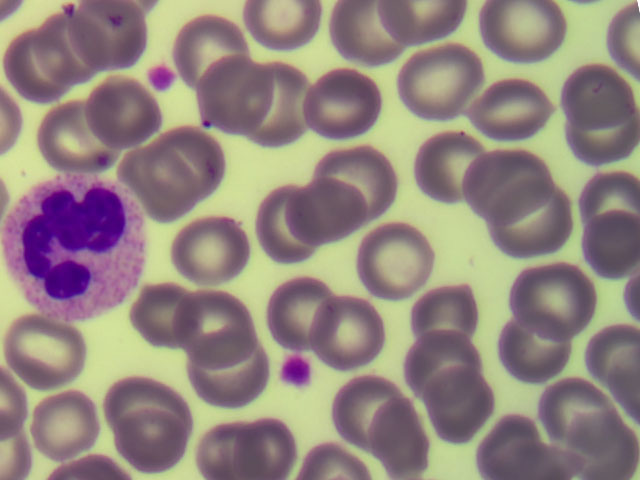Platelets: (280, 356, 310, 387), (148, 64, 177, 91)
RBC: (468, 150, 552, 223), (494, 183, 573, 259), (474, 1, 570, 63), (5, 314, 82, 391), (400, 50, 487, 118), (186, 337, 267, 409), (257, 186, 329, 267), (464, 76, 555, 140), (240, 67, 313, 146), (400, 332, 480, 402), (193, 59, 269, 132), (69, 2, 150, 68), (514, 268, 588, 340), (414, 131, 486, 205), (7, 31, 82, 102), (321, 145, 395, 216), (359, 226, 433, 297), (173, 21, 250, 89), (171, 216, 249, 283), (314, 297, 386, 369), (126, 151, 203, 218), (105, 374, 183, 439), (262, 283, 340, 348), (330, 375, 402, 445), (303, 74, 382, 137), (180, 293, 251, 363), (499, 314, 571, 383), (328, 4, 405, 68), (567, 410, 637, 480), (569, 97, 640, 166), (287, 180, 362, 245), (408, 287, 488, 347), (429, 363, 491, 440), (546, 378, 614, 447), (367, 400, 431, 473), (28, 394, 105, 453), (41, 105, 112, 167), (560, 69, 636, 126), (160, 129, 224, 195), (35, 23, 105, 83), (119, 412, 189, 471), (581, 172, 640, 242), (133, 284, 197, 348), (90, 84, 154, 147), (583, 211, 640, 280), (485, 418, 544, 480), (237, 421, 296, 480), (377, 1, 462, 38), (244, 1, 317, 44), (203, 425, 259, 480), (592, 329, 640, 389), (292, 445, 366, 480), (605, 1, 640, 74), (1, 369, 29, 436)
WBC: (11, 186, 138, 315)
